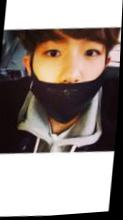WRONG: (27, 32, 109, 129)
